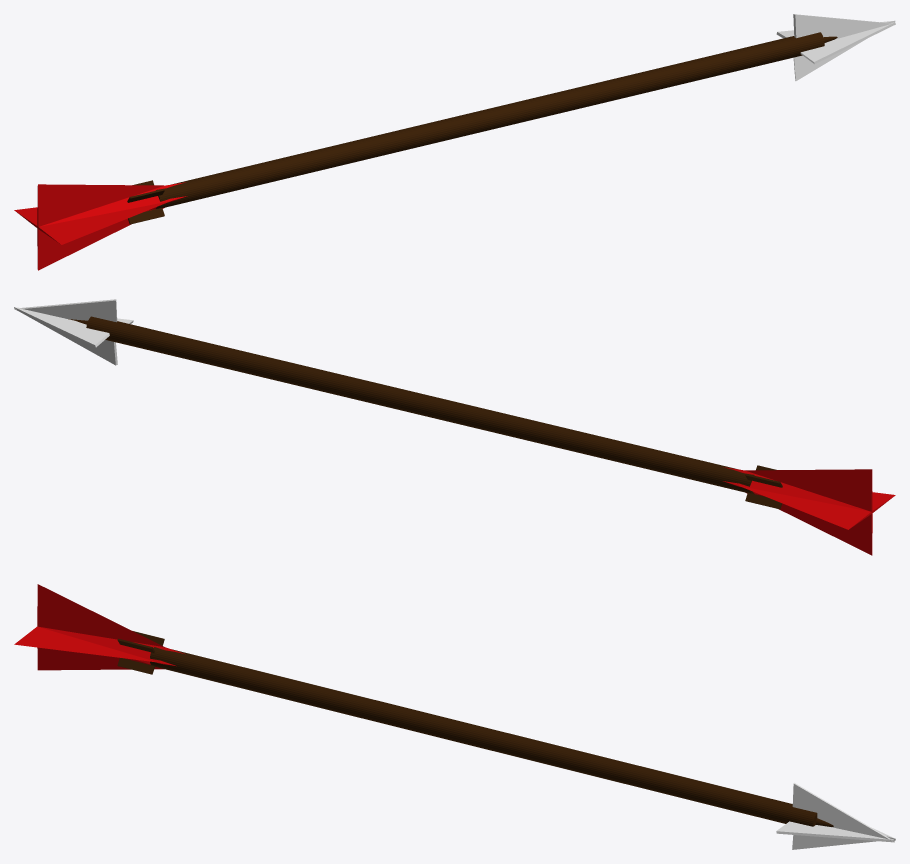
Rendered from ArrowTest.fbx.
The picture shows the model from 3 angles, top to bottom: view 1: azimuth 30°, elevation 25°; view 2: azimuth 150°, elevation 25°; view 3: azimuth 330°, elevation 25°; orthographic projection.
Visible parts, largest first — view 1: Cylinder, Cone, Cube; view 2: Cylinder, Cone, Cube; view 3: Cylinder, Cone, Cube.
Part boxes in pixels (<box>): Cylinder: <box>127,32,837,224</box>; Cone: <box>14,182,187,270</box>; Cube: <box>776,14,895,80</box>; Cylinder: <box>68,316,782,509</box>; Cone: <box>723,467,895,555</box>; Cube: <box>14,299,133,365</box>; Cylinder: <box>117,631,833,826</box>; Cone: <box>14,584,185,670</box>; Cube: <box>776,782,895,849</box>.
Size of the model in its own units: 673 by 64.82 by 64.82.
